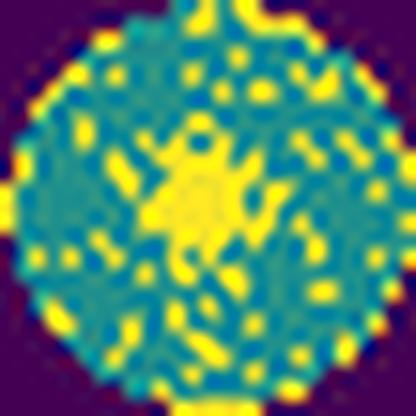Center: (103, 110, 303, 297)
